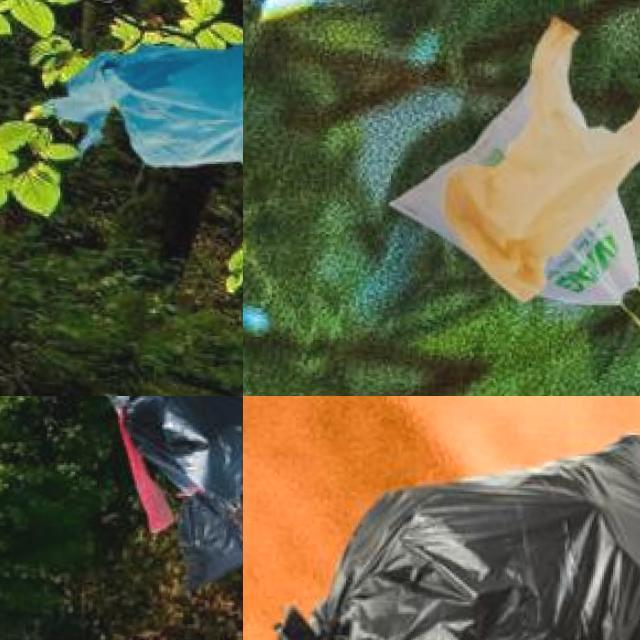waste: (325, 440, 640, 640), (410, 73, 640, 309), (457, 22, 640, 284), (51, 34, 243, 164), (172, 495, 243, 580)
